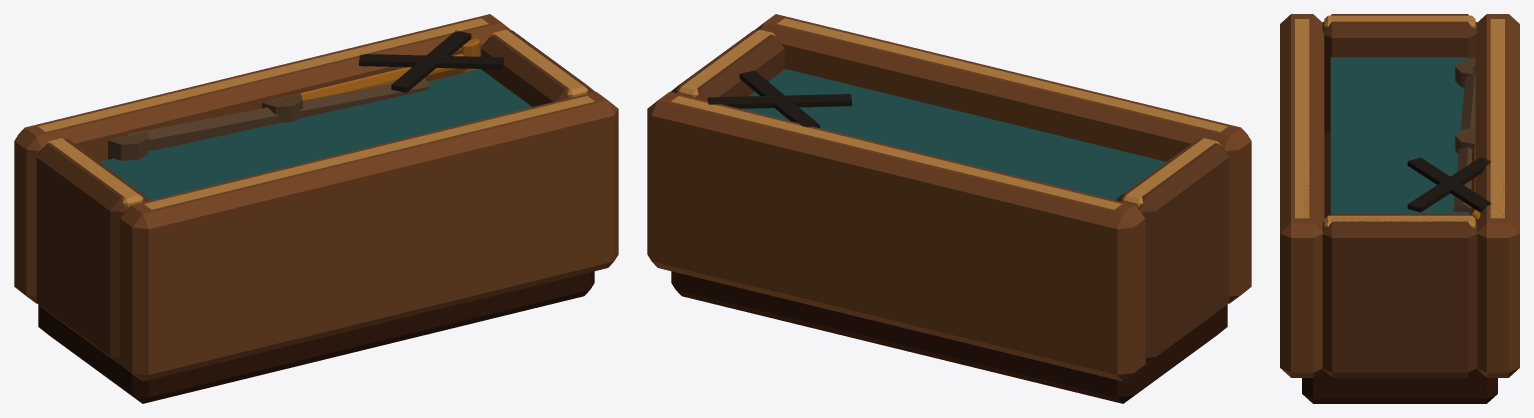
File: water_trough.e4.glb
3 renders of one model, left to right at view 1: azimuth 30°, elevation 25°; view 2: azimuth 150°, elevation 25°; view 3: azimuth 270°, elevation 25°, orthographic. The views are drawn at different scales.
Parts seen in each view (by area): view 1: WaterTroughE4; view 2: WaterTroughE4; view 3: WaterTroughE4.
Boxes of the visible parts, bbox=[...] form: WaterTroughE4: bbox=[14, 14, 618, 403]; WaterTroughE4: bbox=[647, 14, 1251, 403]; WaterTroughE4: bbox=[1280, 14, 1519, 403].
Size of the model in its own units: 1.64 by 0.65 by 0.76.
Materials: 1 (1 with a texture image).
